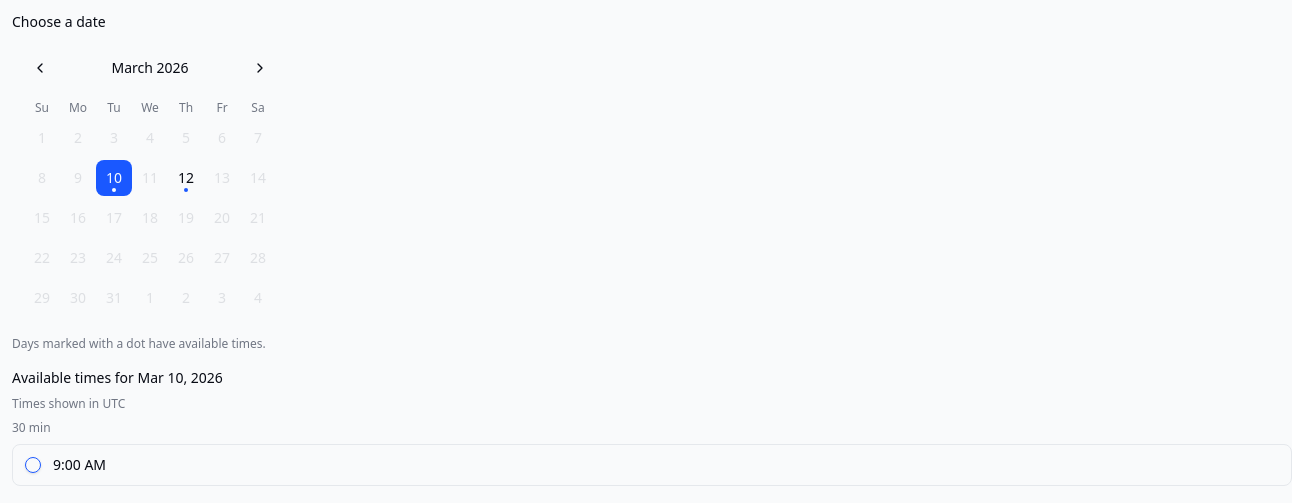
Test case: SlotPicker › selecting day B swaps the time list and updates the day label
Click the button named "March 12th, 2026": (186,178) [168,160,204,196]
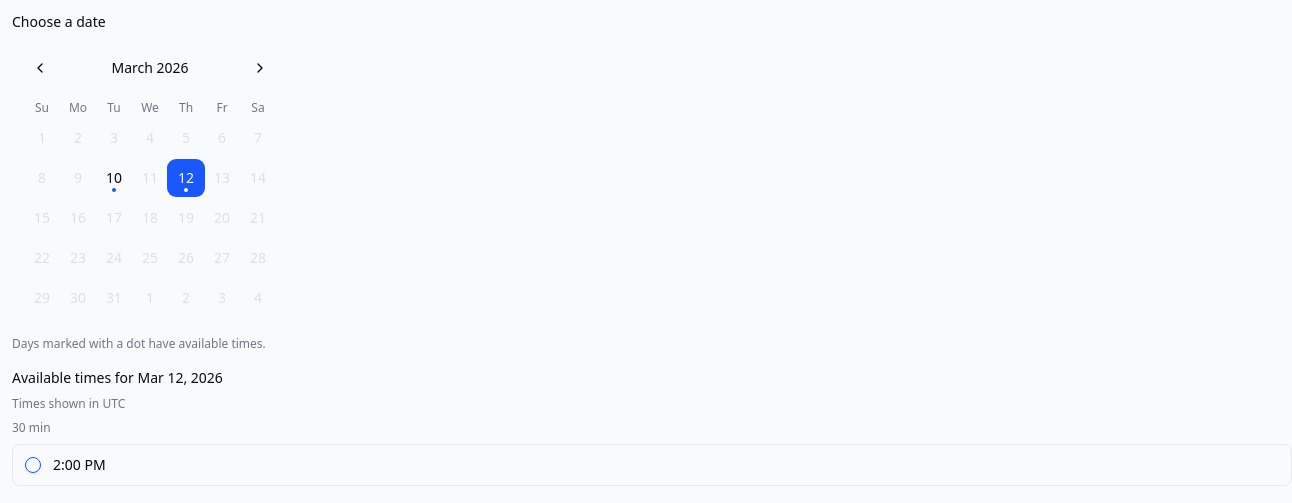
Result: the text "Available times for Mar 12, 2026" is shown at [12,368,223,387]
Result: the text "9:00 AM" is gone
Result: the text "2:00 PM" is shown at [53,455,106,474]
